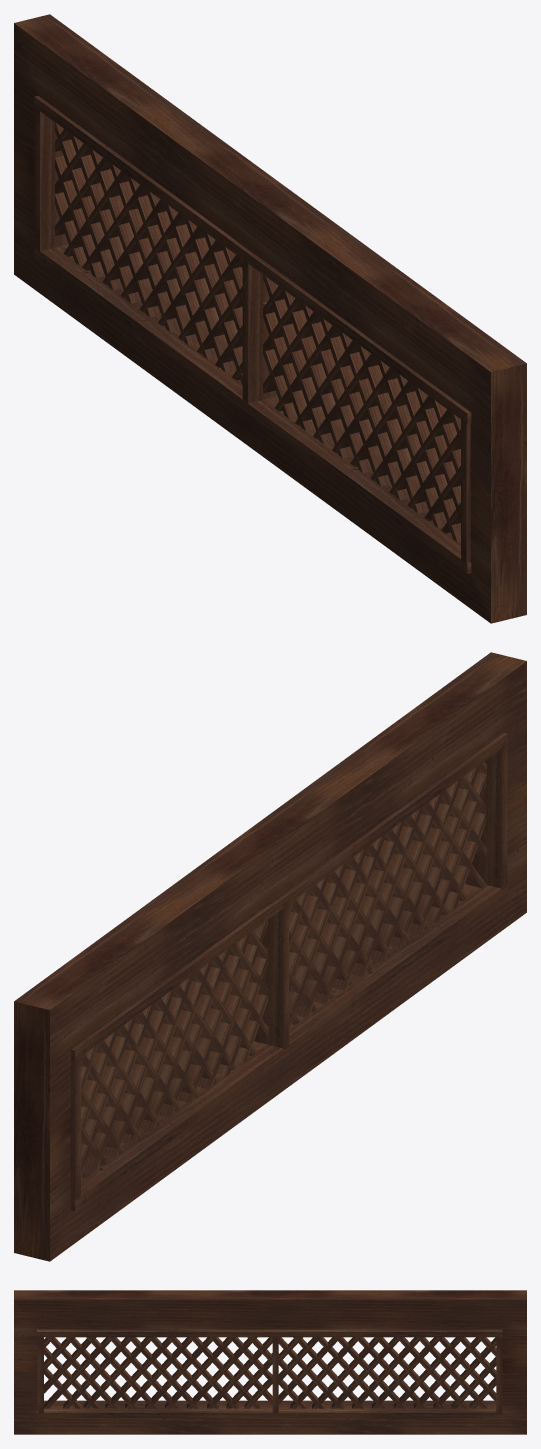
File: SM_M_LatticeSmall.fbx
3 renders of one model, top to bottom at view 1: azimuth 30°, elevation 25°; view 2: azimuth 150°, elevation 25°; view 3: azimuth 270°, elevation 25°, orthographic. The views are drawn at different scales.
Parts seen in each view (by area): view 1: SM_M_LatticeSmall; view 2: SM_M_LatticeSmall; view 3: SM_M_LatticeSmall.
Boxes of the visible parts, x1=… form: SM_M_LatticeSmall: x1=14, y1=14, x2=526, y2=623; SM_M_LatticeSmall: x1=14, y1=652, x2=526, y2=1261; SM_M_LatticeSmall: x1=14, y1=1290, x2=526, y2=1434.
Bounding box in the file's own units: 21.92 × 396 × 115.
1 material, 1 textured.
